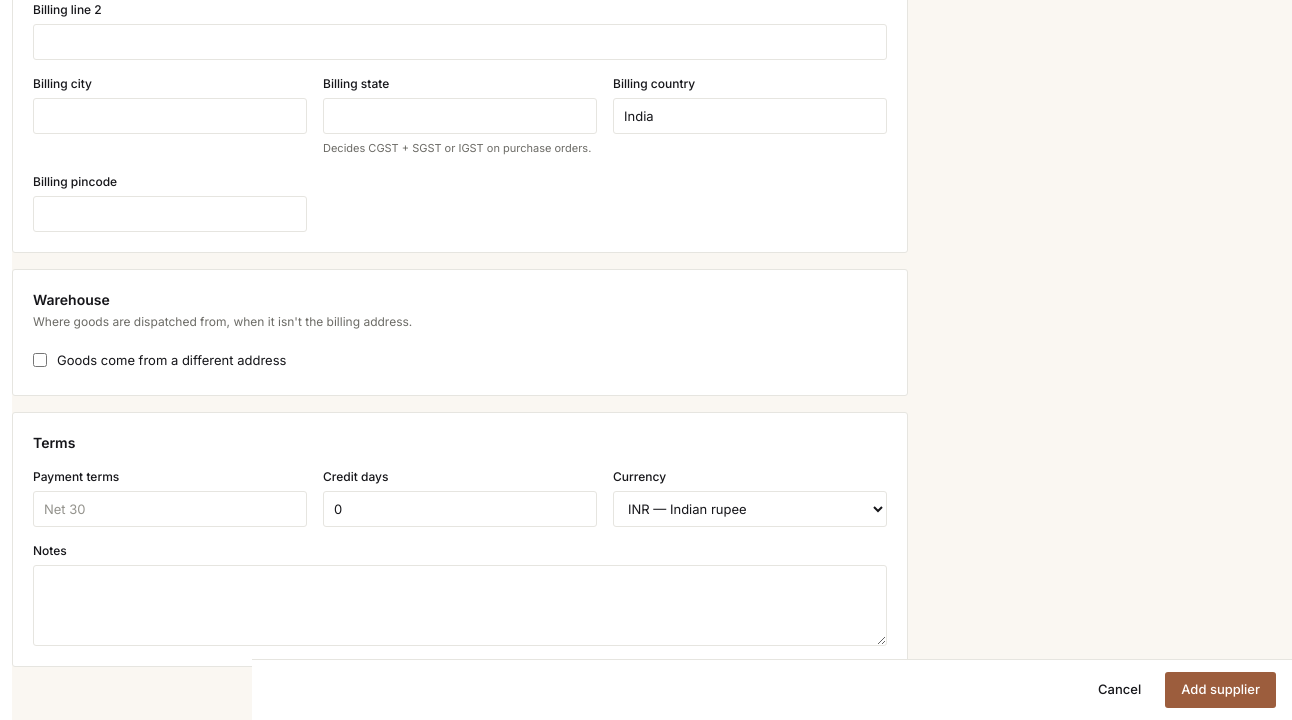
Scenario: AdminSupplierForm — create › checks the warehouse pincode once a separate warehouse is ticked
This screenshot has width=1292, height=720.
(page scrolled)
Expected: the field labelled "Warehouse pincode" is not shown
Step 1. Click the checkbox labelled "Goods come from a different address" → (40, 360), box x1=33 y1=353 x2=47 y2=367
(page scrolled)
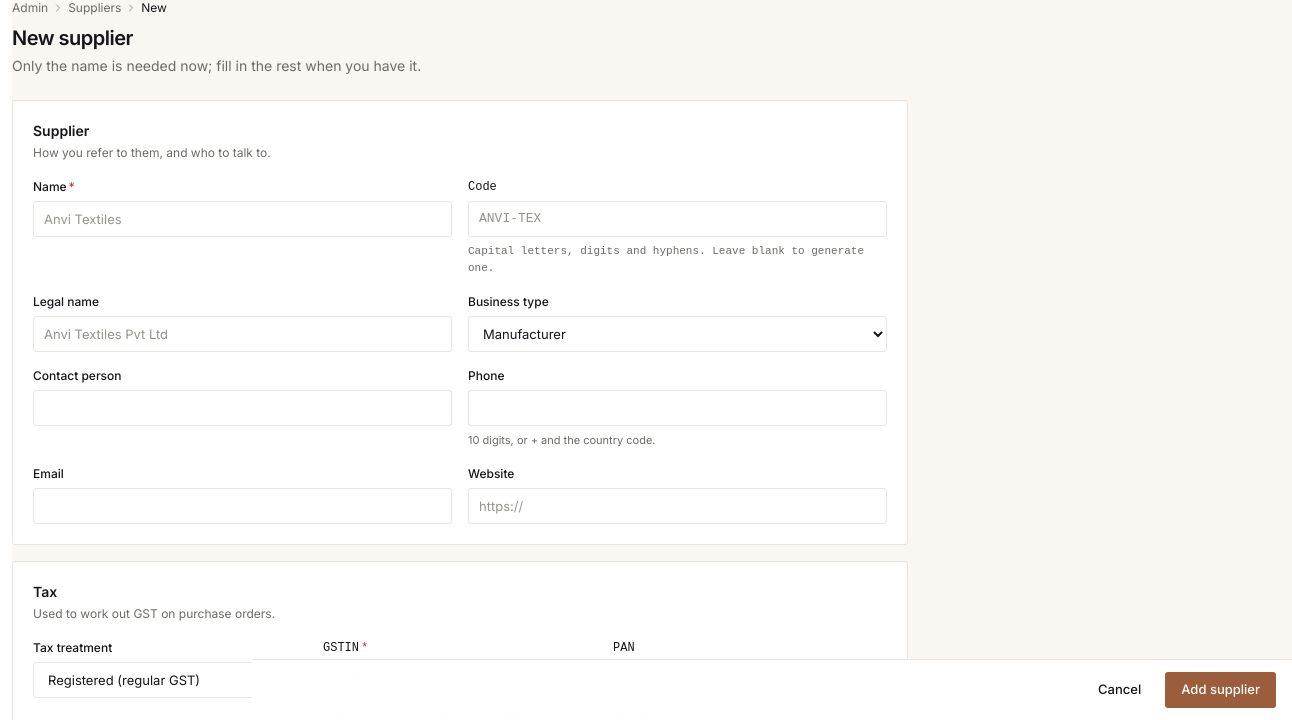
Step 2. Type "Anvi" into the field labelled "Name*" → (242, 218), box x1=33 y1=200 x2=452 y2=236
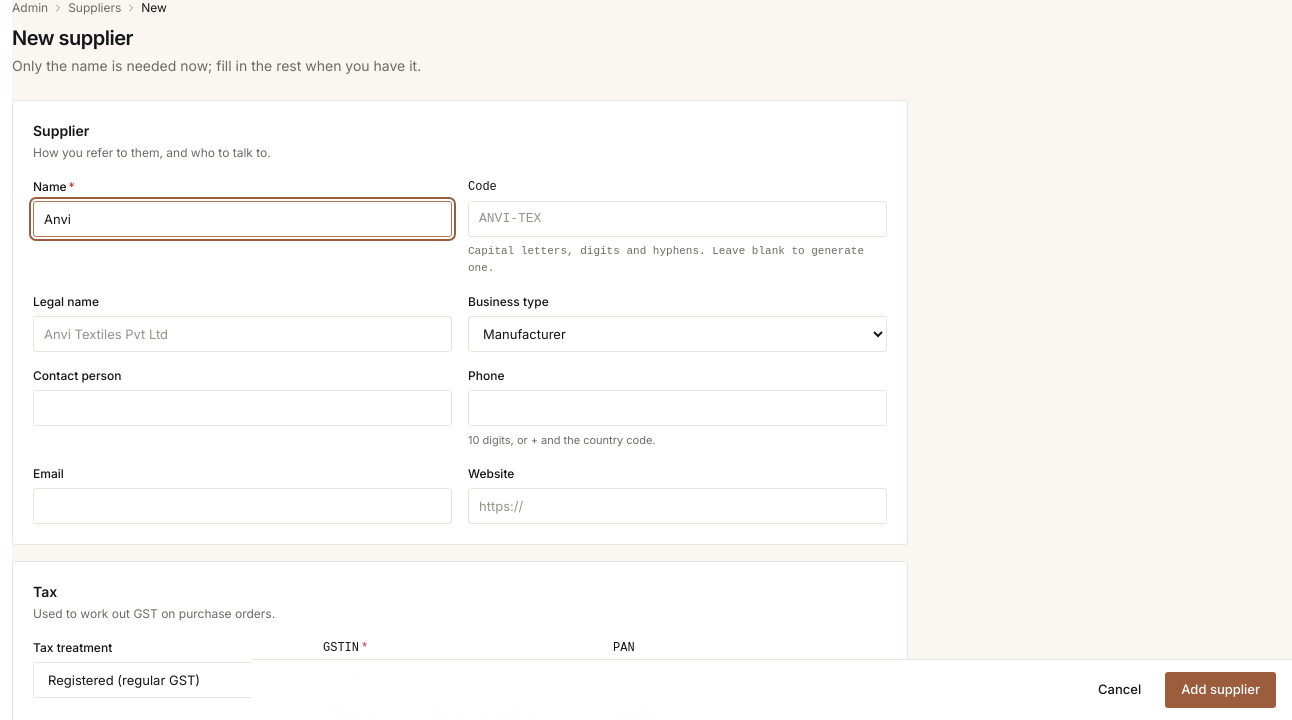
Step 3. Select "Unregistered" in the dropdown labelled "Tax treatment" → (170, 680), box x1=33 y1=662 x2=307 y2=698
(page scrolled)
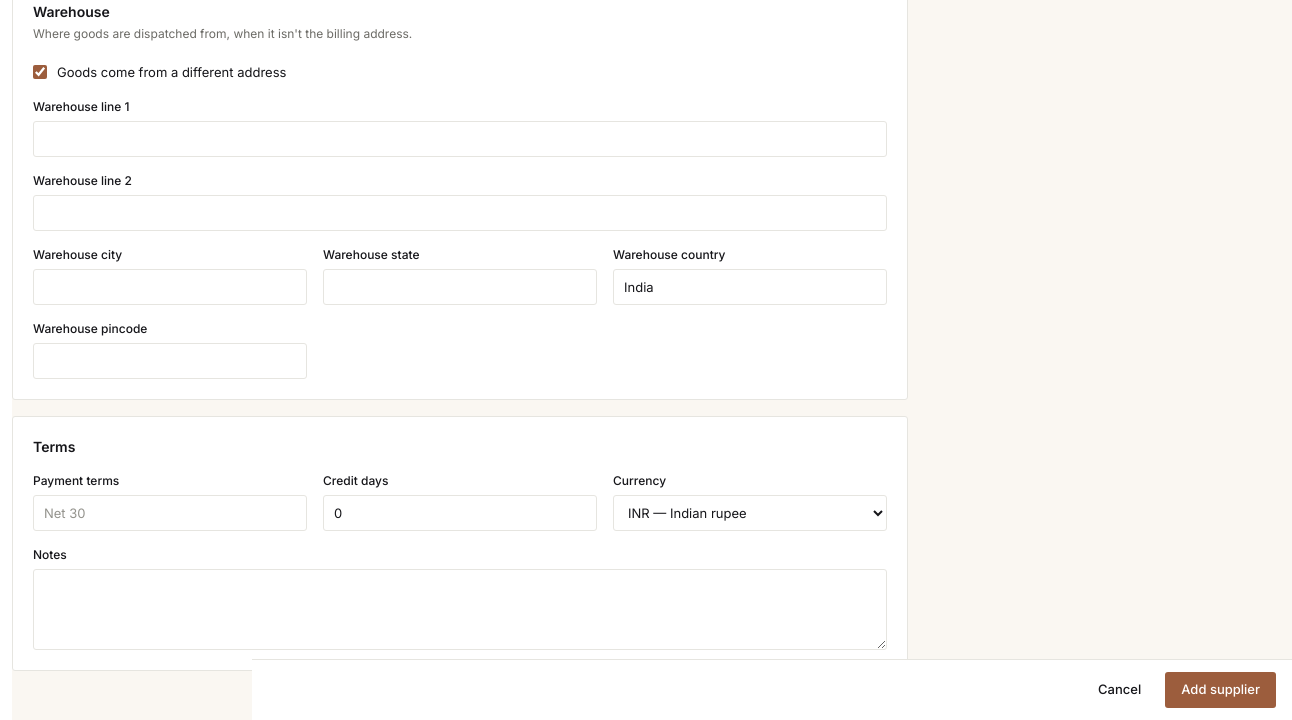
Step 4. Type "12" into the field labelled "Warehouse pincode" → (170, 361), box x1=33 y1=343 x2=307 y2=379
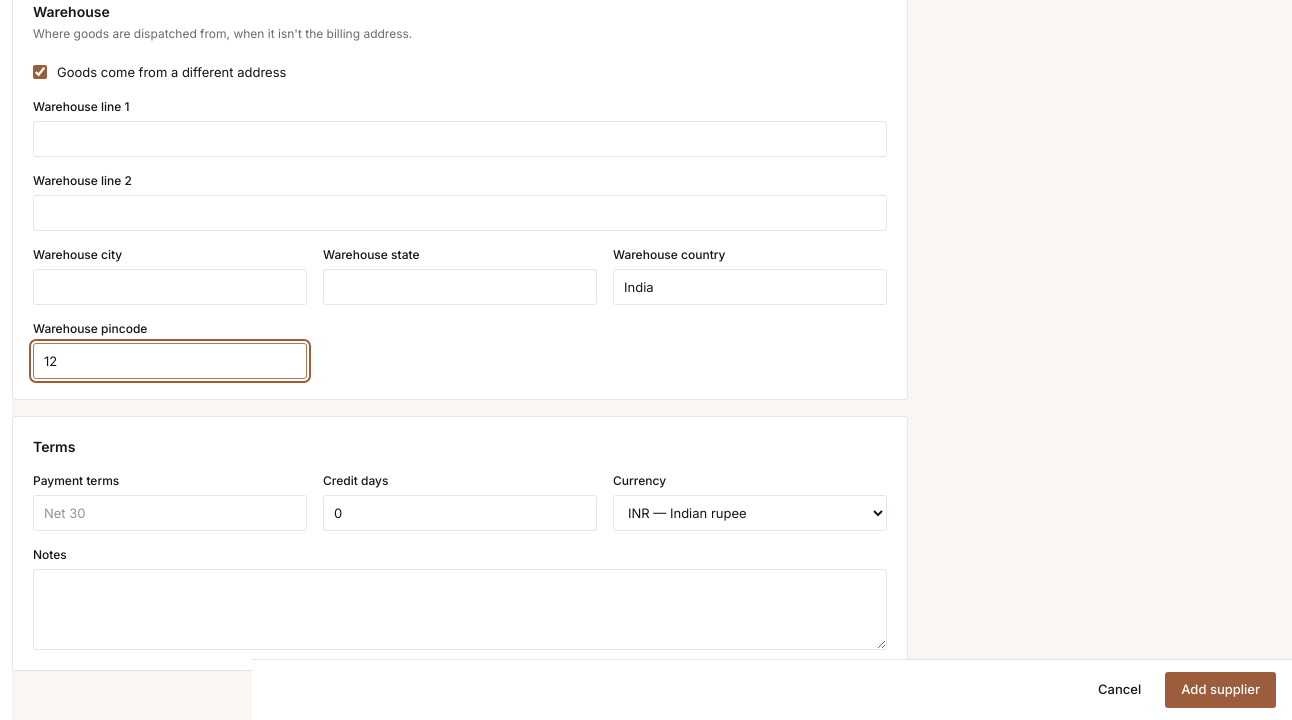
Step 5. Click the button "Add supplier" → (1221, 690), box x1=1165 y1=672 x2=1276 y2=708
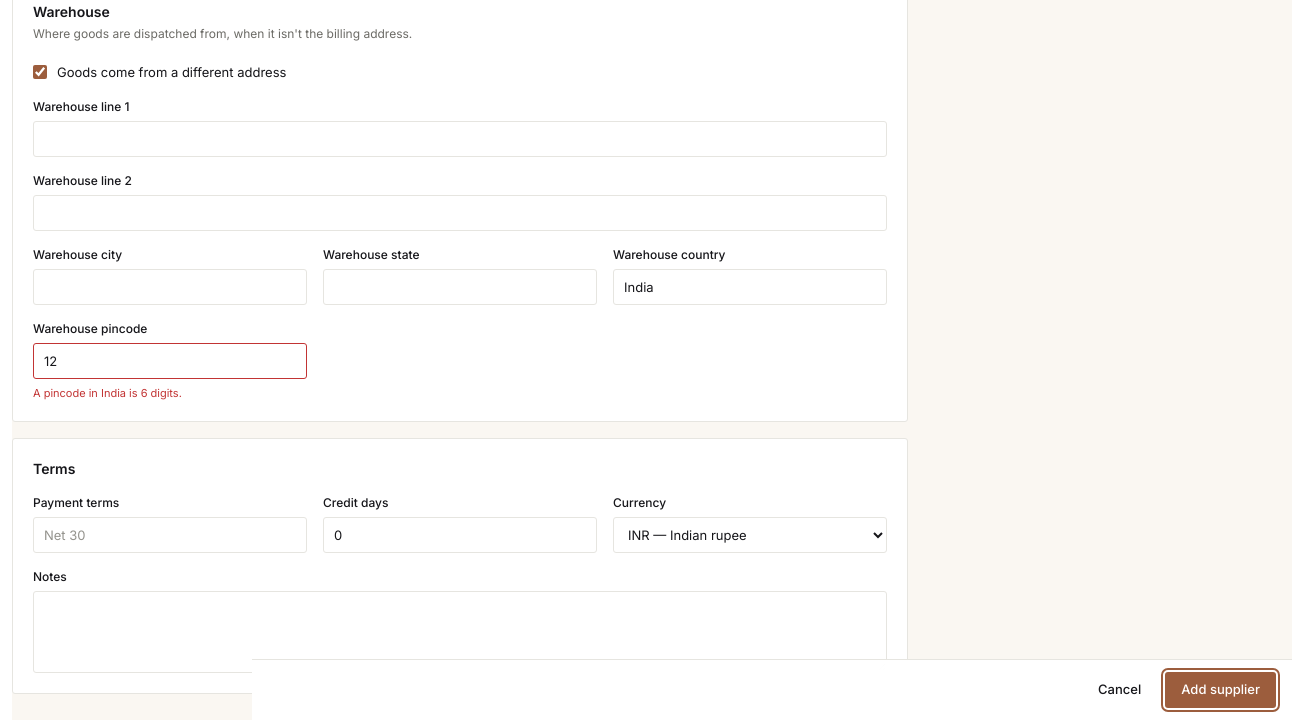
Result: the message "A pincode in India is 6 digits." is shown at x1=33 y1=386 x2=182 y2=400
